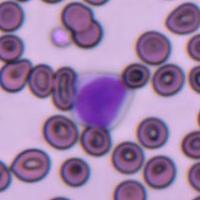L: (70, 71, 130, 129)
